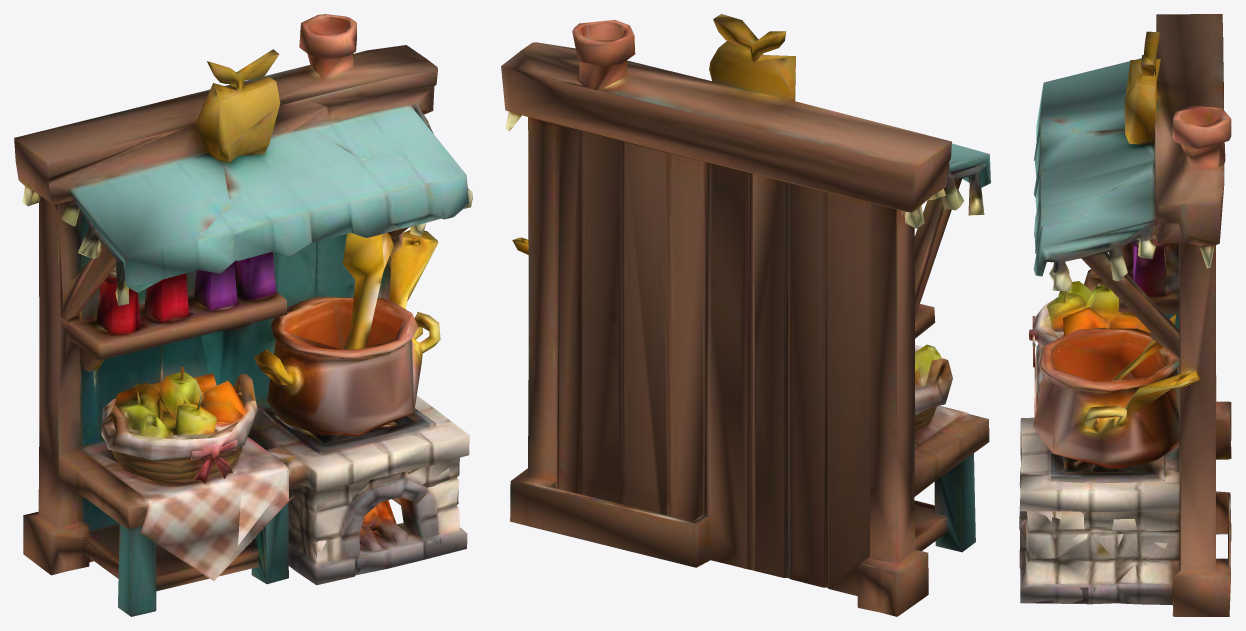
Rendered from guojiangguo-3.glb.
3 views of the same model, side by side, from view 1: azimuth 30°, elevation 25°; view 2: azimuth 150°, elevation 25°; view 3: azimuth 270°, elevation 25° (orthographic). The views are drawn at different scales.
Visible parts, largest first — view 1: node_0; view 2: node_0; view 3: node_0.
Boxes of the visible parts, <box> form: node_0: <box>14,14,472,616</box>; node_0: <box>501,14,990,616</box>; node_0: <box>1019,14,1231,616</box>.
Bounding box in the file's own units: 0.7705 × 0.893 × 0.3568.
1 material, 1 textured.
